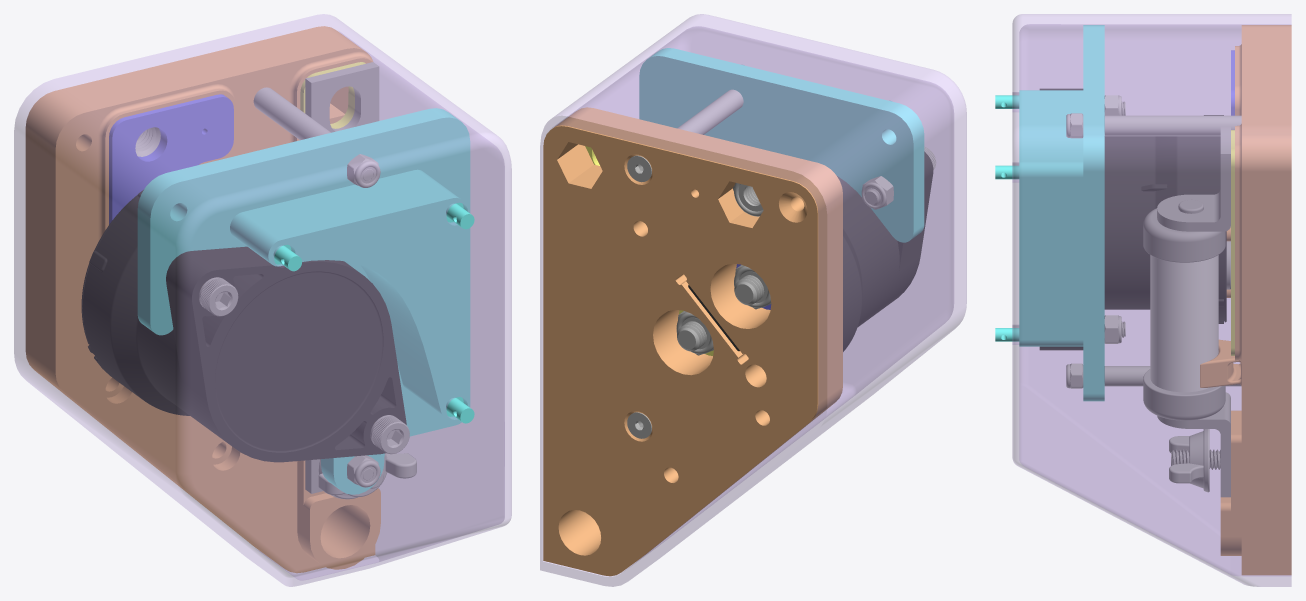
The model's file is contactor.glb.
The picture shows the model from 3 angles, left to right: view 1: azimuth 30°, elevation 25°; view 2: azimuth 150°, elevation 25°; view 3: azimuth 270°, elevation 25°; orthographic projection. The views are drawn at different scales.
Parts seen in each view (by area): view 1: PositiveContactorV2_Cover-1, PositiveContactorV2_MainBody-1, PositiveContactorV2_TopLayer-1, GV221BAB_step_210827-1, PositiveContactorV2_OutputBusbar-1, PF-FB1-75-1, 94669A122_Aluminum Unthreaded Spacer-2, 94309A350_Wing Nut-2, 91290A252_Black-Oxide Alloy Steel Socket Head Screw-1, 91290A252_Black-Oxide Alloy Steel Socket Head Screw-2, 90453A112_Thin-Profile Nylon-Insert Locknut-2, 90453A112_Thin-Profile Nylon-Insert Locknut-3 (+1 smaller); view 2: PositiveContactorV2_MainBody-1, PositiveContactorV2_Cover-1, PositiveContactorV2_TopLayer-1, GV221BAB_step_210827-1, 94669A122_Aluminum Unthreaded Spacer-2, 94645A210_High-Strength Steel Nylon-Insert Locknut-3, 94645A102_High-Strength Steel Nylon-Insert Locknut-1; view 3: PositiveContactorV2_Cover-1, PositiveContactorV2_MainBody-1, PositiveContactorV2_TopLayer-1, PF-FB1-75-1, GV221BAB_step_210827-1, 94669A122_Aluminum Unthreaded Spacer-2, 94309A350_Wing Nut-2, 94669A122_Aluminum Unthreaded Spacer-3, PositiveContactorV2_FuseToContactorBusbar-1, 94645A102_High-Strength Steel Nylon-Insert Locknut-2, 91280A328_Medium-Strength Class 8.8 Steel Hex Head Screw-1, 90453A112_Thin-Profile Nylon-Insert Locknut-3 (+1 smaller).
Part boxes in pixels (<box>): PositiveContactorV2_Cover-1: <box>14,14,511,586</box>; PositiveContactorV2_MainBody-1: <box>25,26,380,572</box>; PositiveContactorV2_TopLayer-1: <box>137,108,474,494</box>; GV221BAB_step_210827-1: <box>81,190,406,462</box>; PositiveContactorV2_OutputBusbar-1: <box>109,94,233,224</box>; PF-FB1-75-1: <box>305,62,379,493</box>; 94669A122_Aluminum Unthreaded Spacer-2: <box>253,87,330,140</box>; 94309A350_Wing Nut-2: <box>318,453,416,499</box>; 91290A252_Black-Oxide Alloy Steel Socket Head Screw-1: <box>199,277,238,316</box>; 91290A252_Black-Oxide Alloy Steel Socket Head Screw-2: <box>370,415,409,453</box>; 90453A112_Thin-Profile Nylon-Insert Locknut-2: <box>347,154,380,187</box>; 90453A112_Thin-Profile Nylon-Insert Locknut-3: <box>347,455,380,487</box>; PositiveContactorV2_MainBody-1: <box>543,107,842,576</box>; PositiveContactorV2_Cover-1: <box>540,14,966,586</box>; PositiveContactorV2_TopLayer-1: <box>639,48,924,242</box>; GV221BAB_step_210827-1: <box>677,151,933,351</box>; 94669A122_Aluminum Unthreaded Spacer-2: <box>677,89,743,134</box>; 94645A210_High-Strength Steel Nylon-Insert Locknut-3: <box>733,183,763,216</box>; 94645A102_High-Strength Steel Nylon-Insert Locknut-1: <box>861,176,893,209</box>; PositiveContactorV2_Cover-1: <box>1012,14,1291,586</box>; PositiveContactorV2_MainBody-1: <box>1200,25,1291,575</box>; PositiveContactorV2_TopLayer-1: <box>995,25,1104,401</box>; PF-FB1-75-1: <box>1143,126,1230,497</box>; GV221BAB_step_210827-1: <box>1039,88,1230,350</box>; 94669A122_Aluminum Unthreaded Spacer-2: <box>1104,115,1241,136</box>; 94309A350_Wing Nut-2: <box>1169,429,1209,492</box>; 94669A122_Aluminum Unthreaded Spacer-3: <box>1104,366,1240,386</box>; PositiveContactorV2_FuseToContactorBusbar-1: <box>1231,130,1234,355</box>; 94645A102_High-Strength Steel Nylon-Insert Locknut-2: <box>1104,315,1121,343</box>; 91280A328_Medium-Strength Class 8.8 Steel Hex Head Screw-1: <box>1171,449,1220,469</box>; 90453A112_Thin-Profile Nylon-Insert Locknut-3: <box>1066,363,1083,388</box>.
Bounding box in the file's own units: 0.0943 × 0.1445 × 0.0865.
